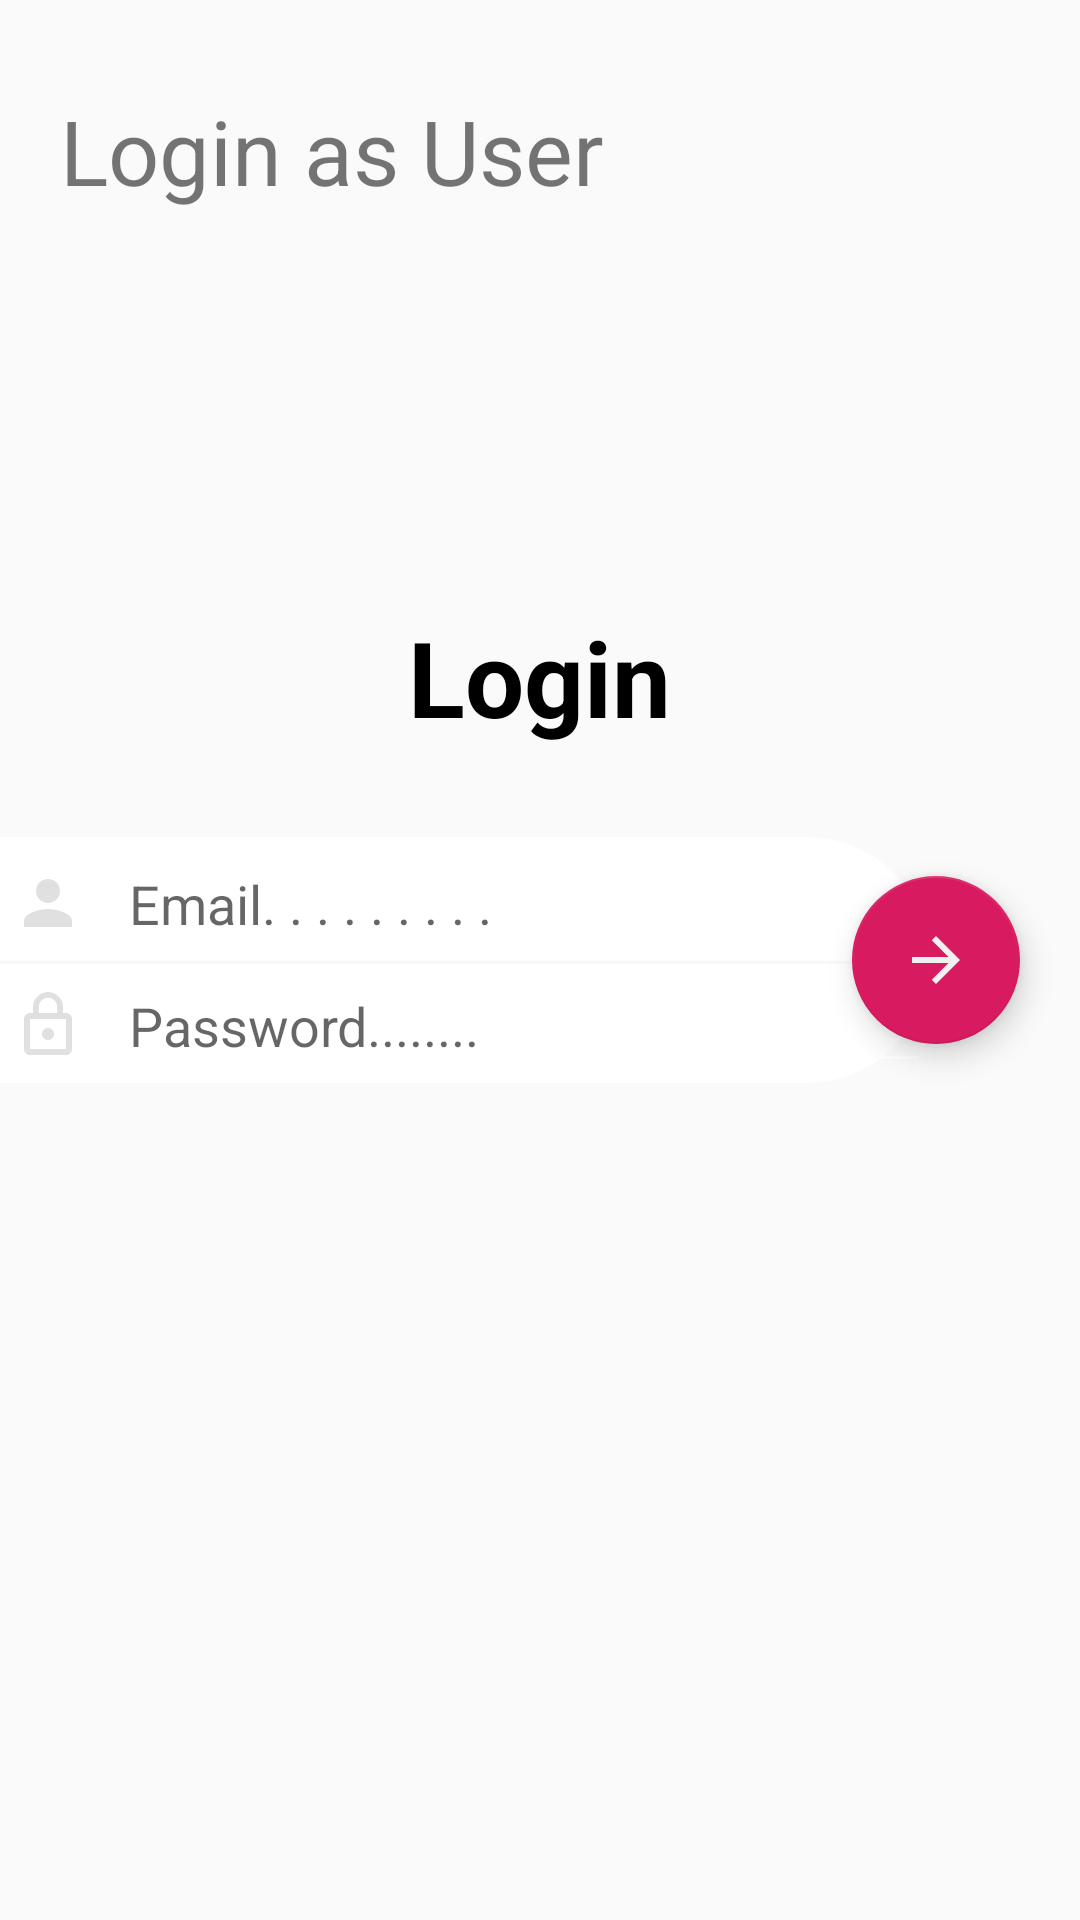

Point at icon controls on the screen. Image size 1080×1920, points as (x,y).
arrow forward: (936,960)
